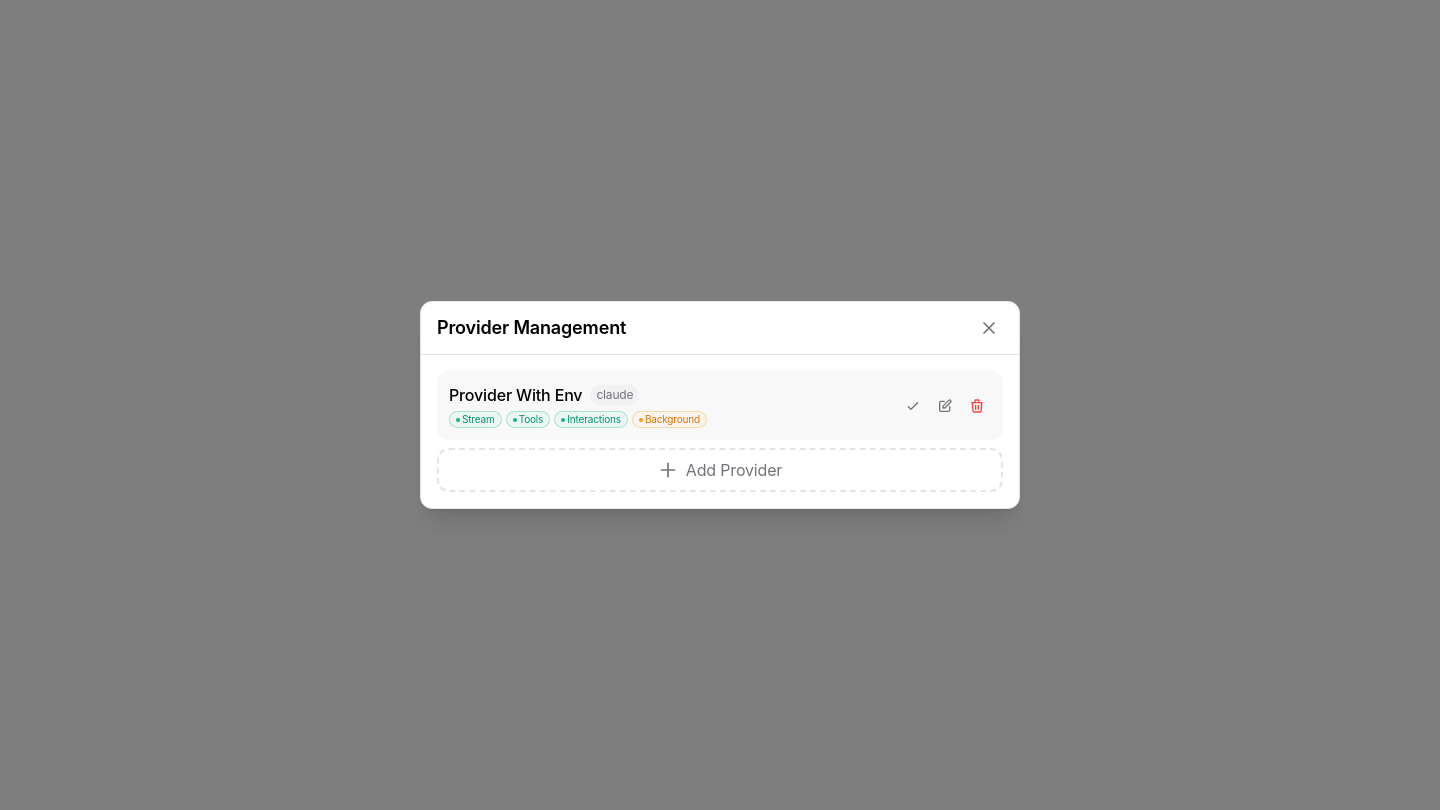
ProviderManager › Edit form with env › populates env field when editing provider with env
Expected: the text "Provider With Env" is shown, [449,383,582,407]
Click the button titled "Edit".
click(945, 406)  # box [931,392,959,420]
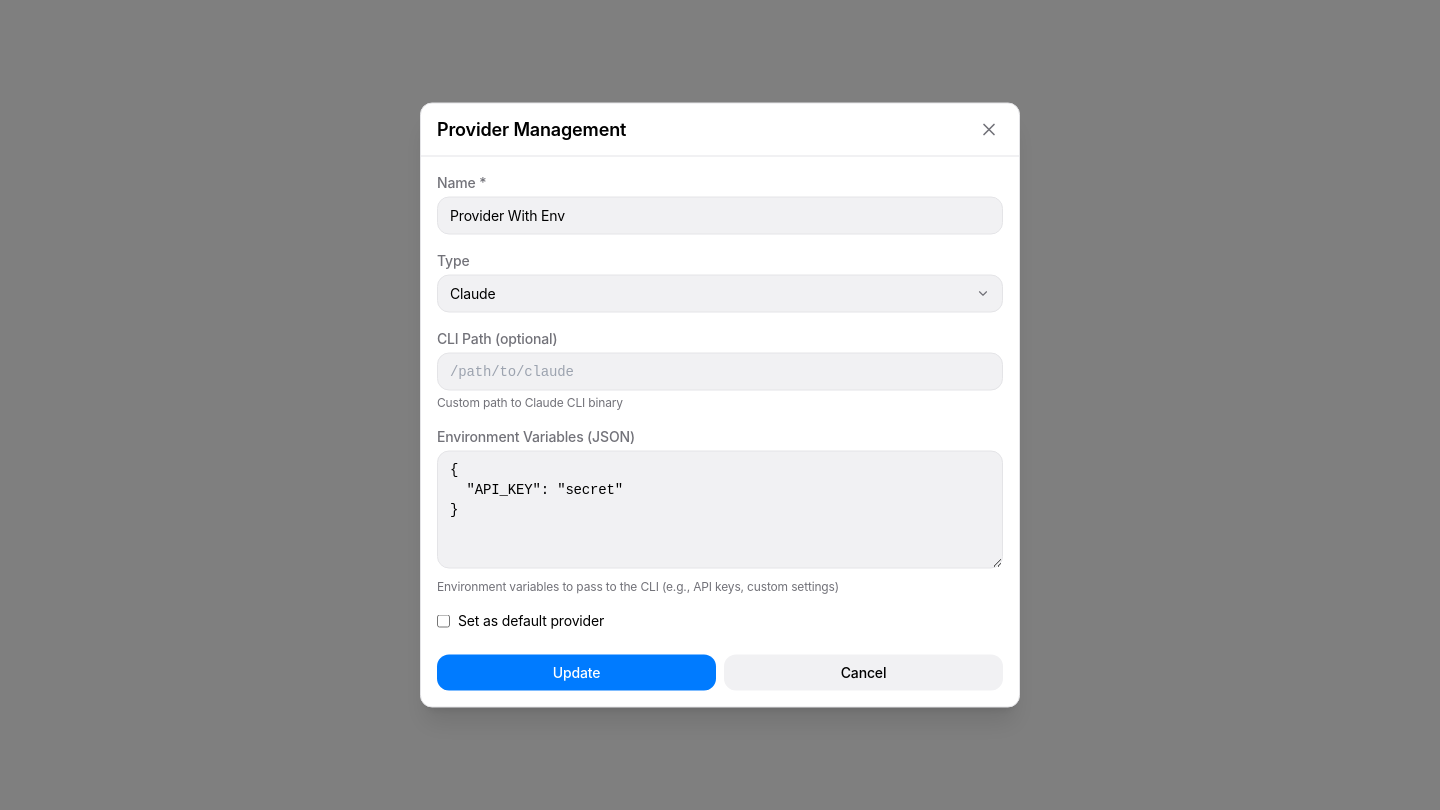
Now the button "Update" is shown, box [437,654,716,690]
